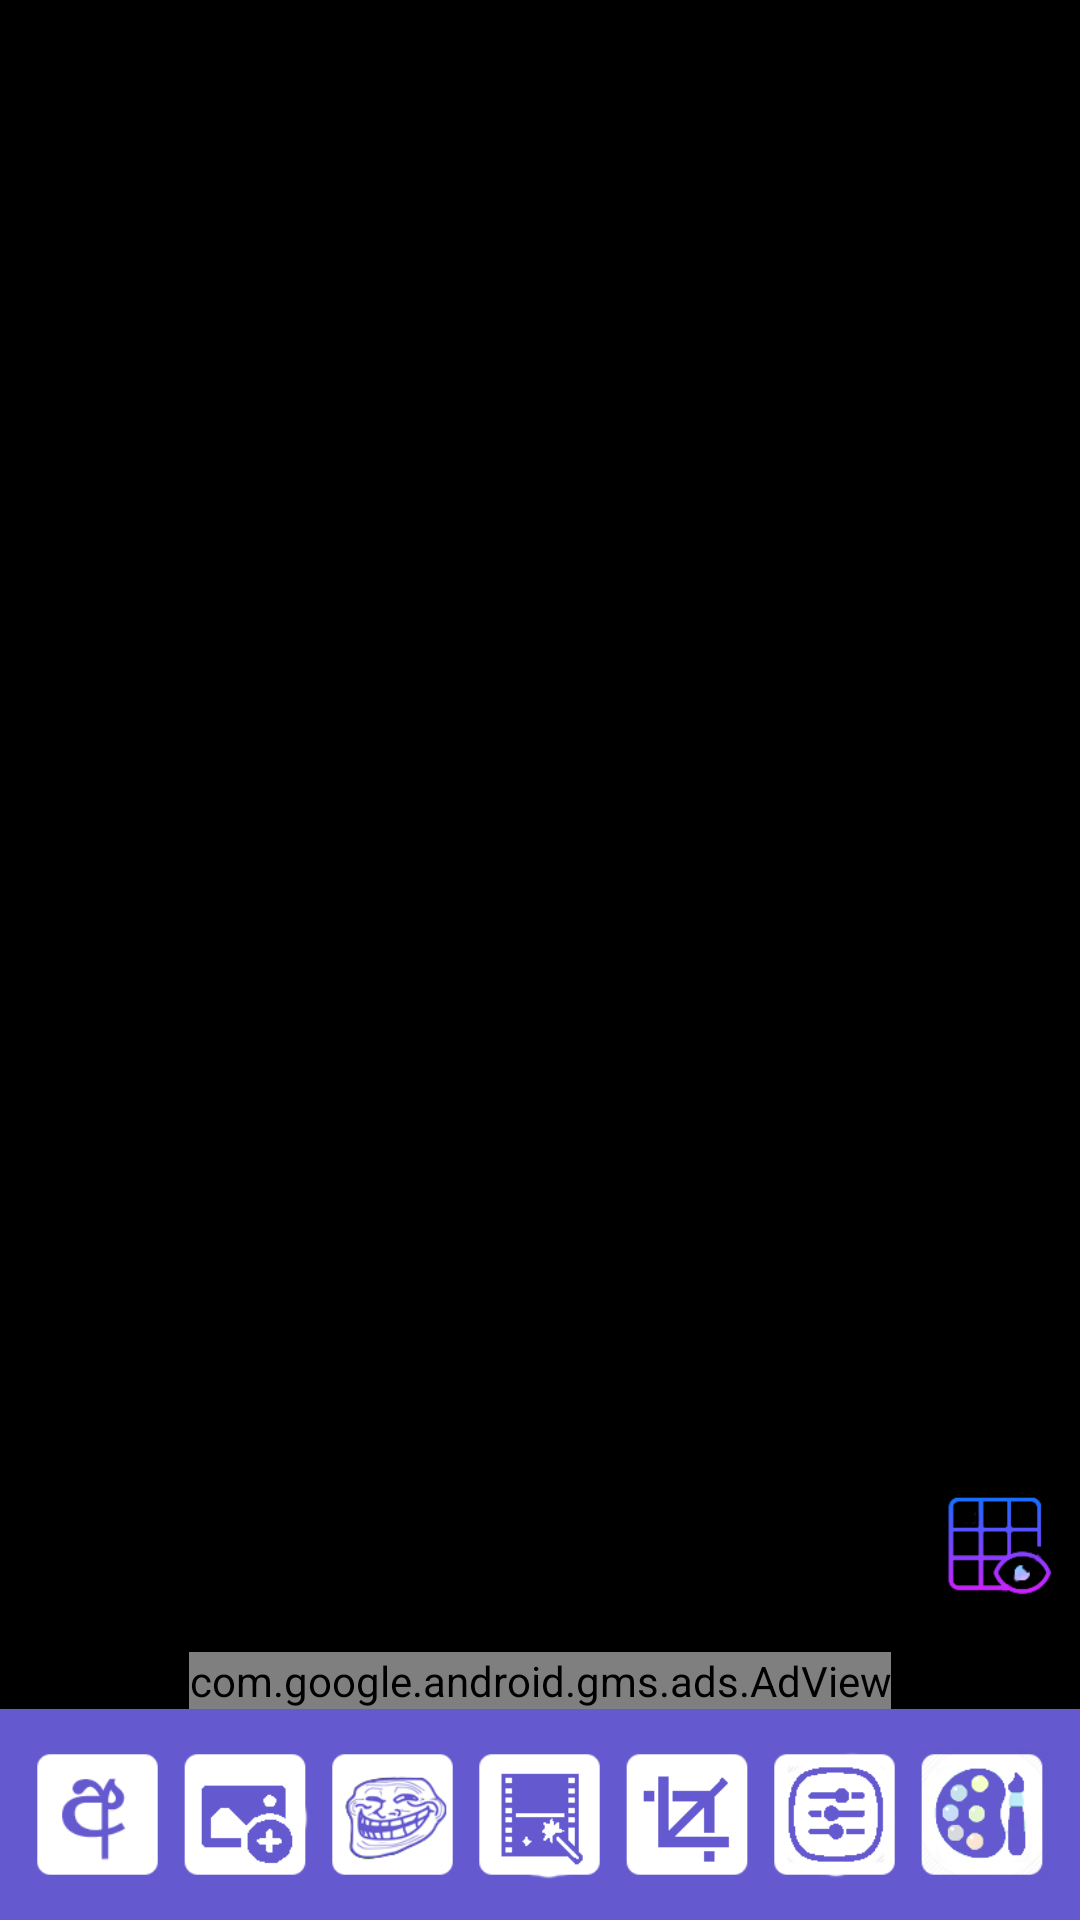

Screen size 1080×1920. Icon name, then its box in pixels as (x1, y1, x2, y2):
addcrop: (626, 1754, 748, 1875)
addeffect: (479, 1754, 600, 1878)
addimage: (184, 1754, 307, 1875)
addsticker: (332, 1754, 453, 1875)
addtext: (37, 1754, 158, 1875)
draw on: (921, 1754, 1043, 1875)
grid hide: (948, 1497, 1051, 1594)
